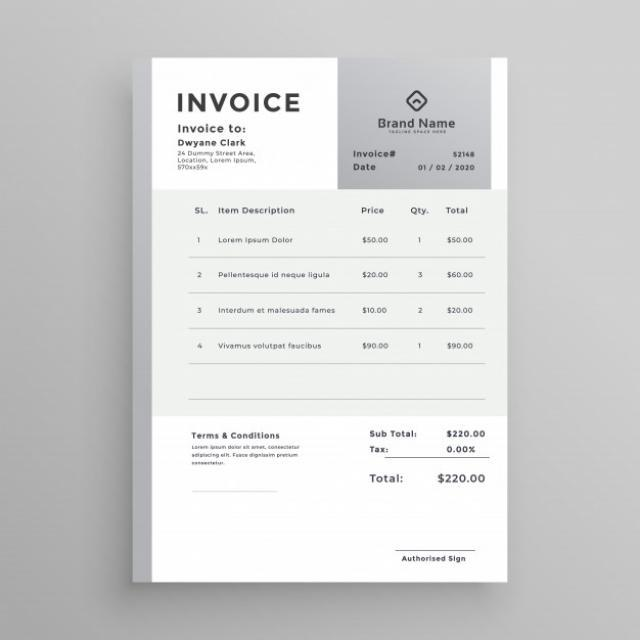customer_address: (174, 149, 265, 177)
customer_name: (176, 136, 260, 148)
invoice_date: (412, 162, 484, 176)
invoice_number: (436, 149, 484, 158)
invoice_subtotal: (444, 428, 489, 440)
invoice_total: (434, 471, 490, 488)
item_description: (215, 231, 338, 364)
item_quantity: (408, 234, 431, 362)
item_total_price: (440, 232, 480, 362)
item_unit_price: (357, 231, 396, 359)
supplier_name: (371, 113, 466, 130)
tax_rate: (440, 443, 480, 457)
